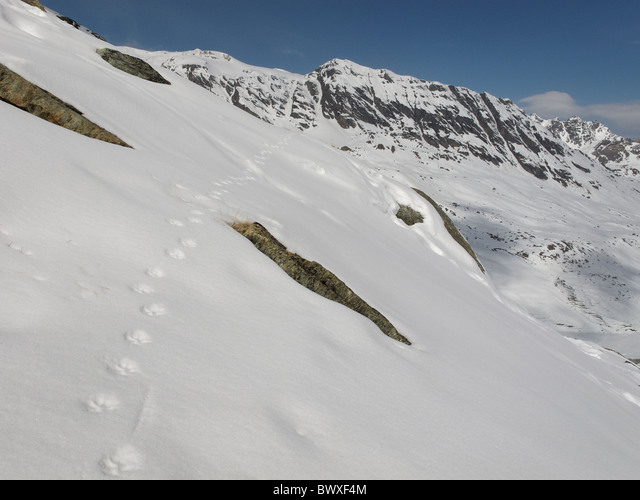fox: (85, 394, 121, 416), (126, 327, 152, 348), (143, 302, 169, 322), (108, 361, 139, 376), (131, 279, 155, 295)
